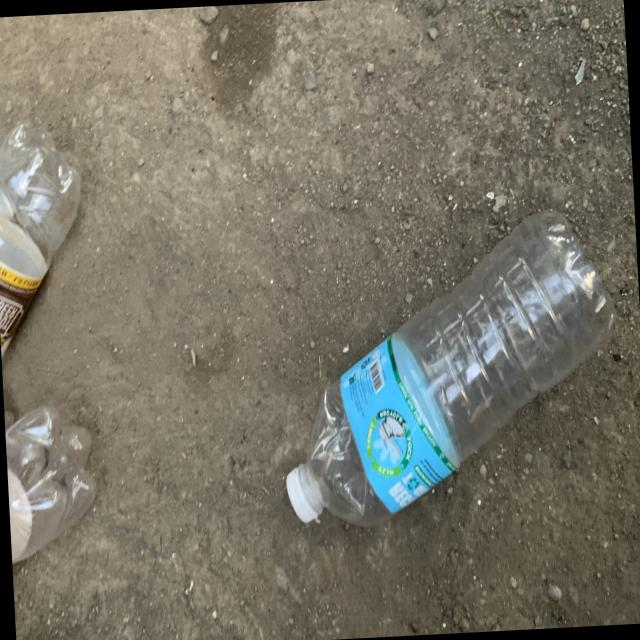Bottle: (287, 210, 614, 524)
